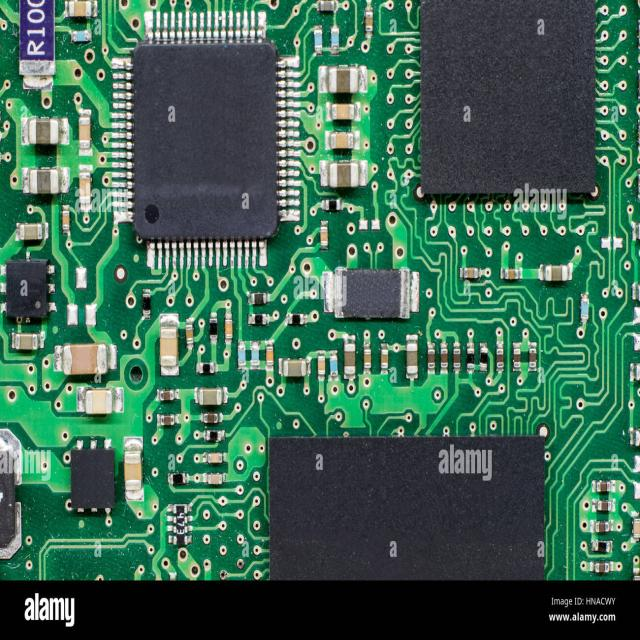pcb: (1, 0, 638, 584), (268, 434, 546, 581), (70, 444, 116, 515), (5, 256, 50, 321), (18, 0, 56, 76)
